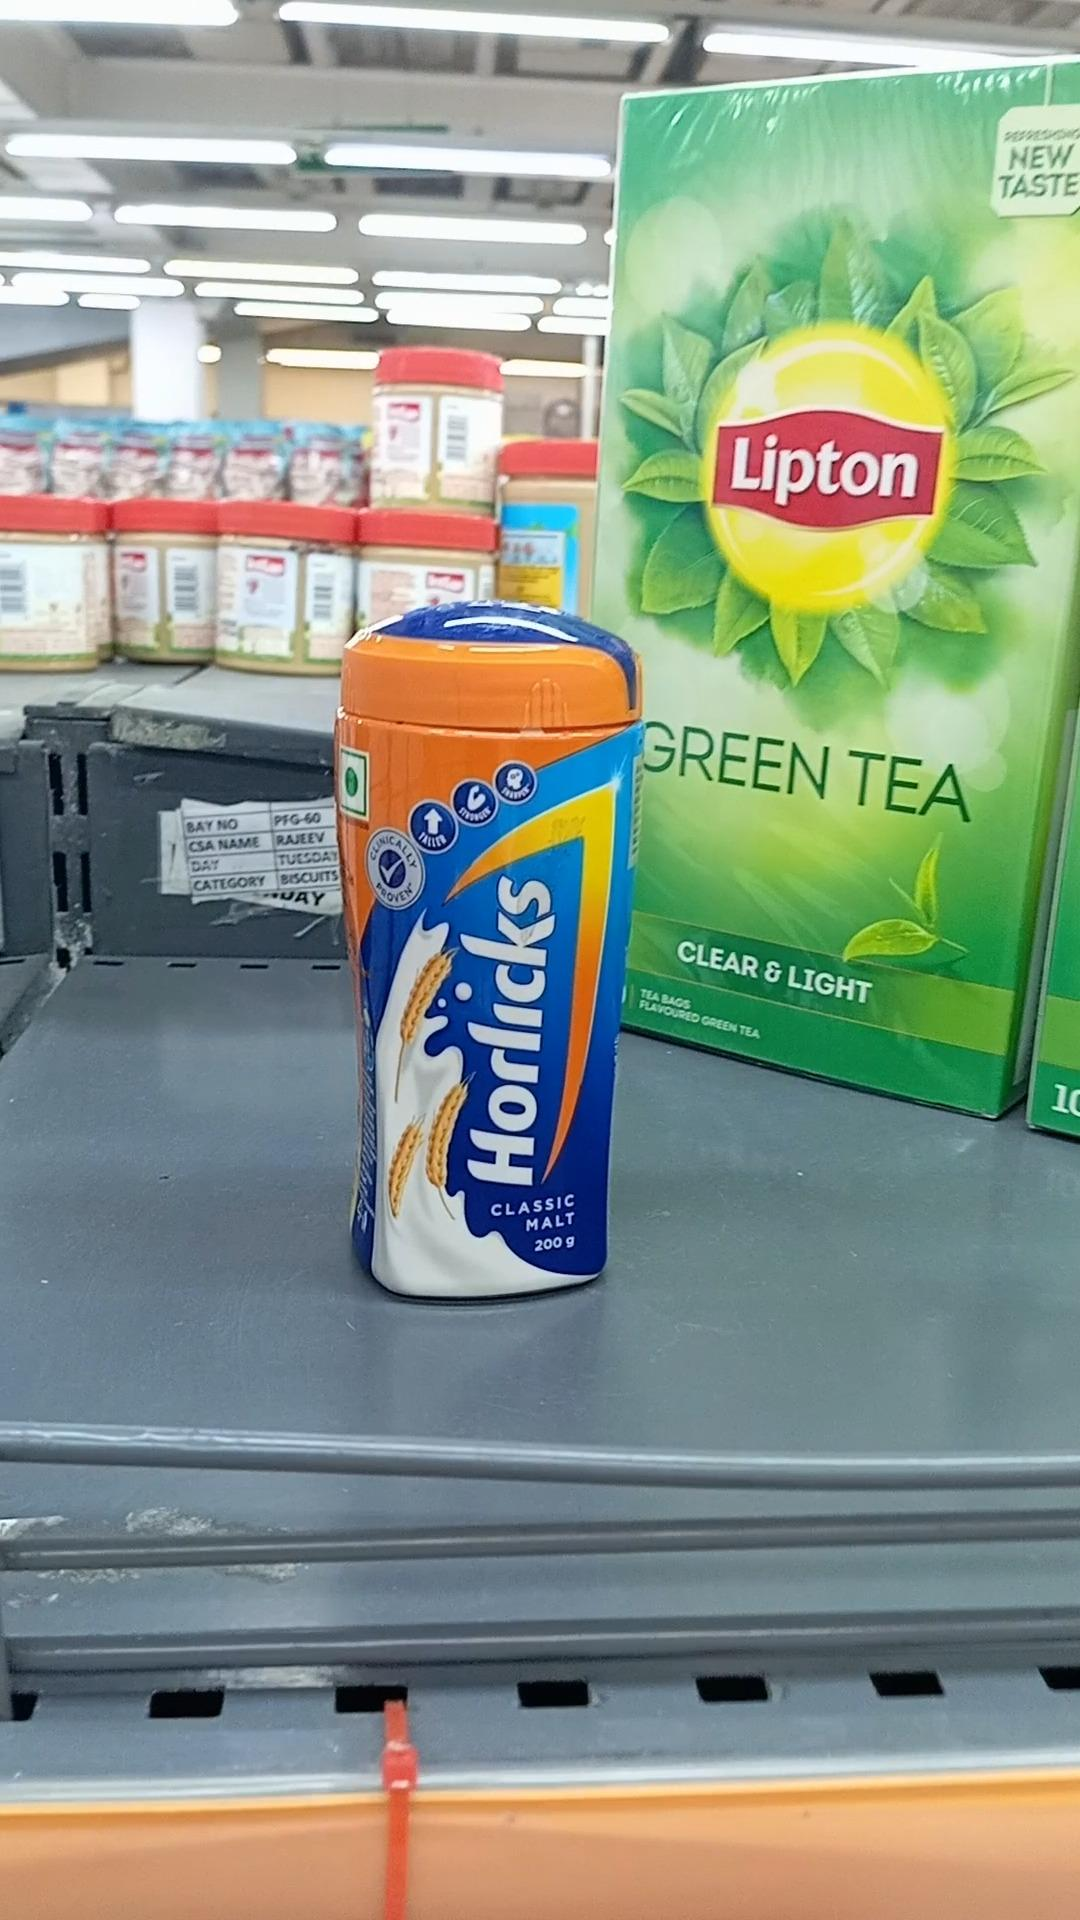HORLICK_CLASSIC_MALT_200_G_JAR: (339, 604, 641, 1298)
